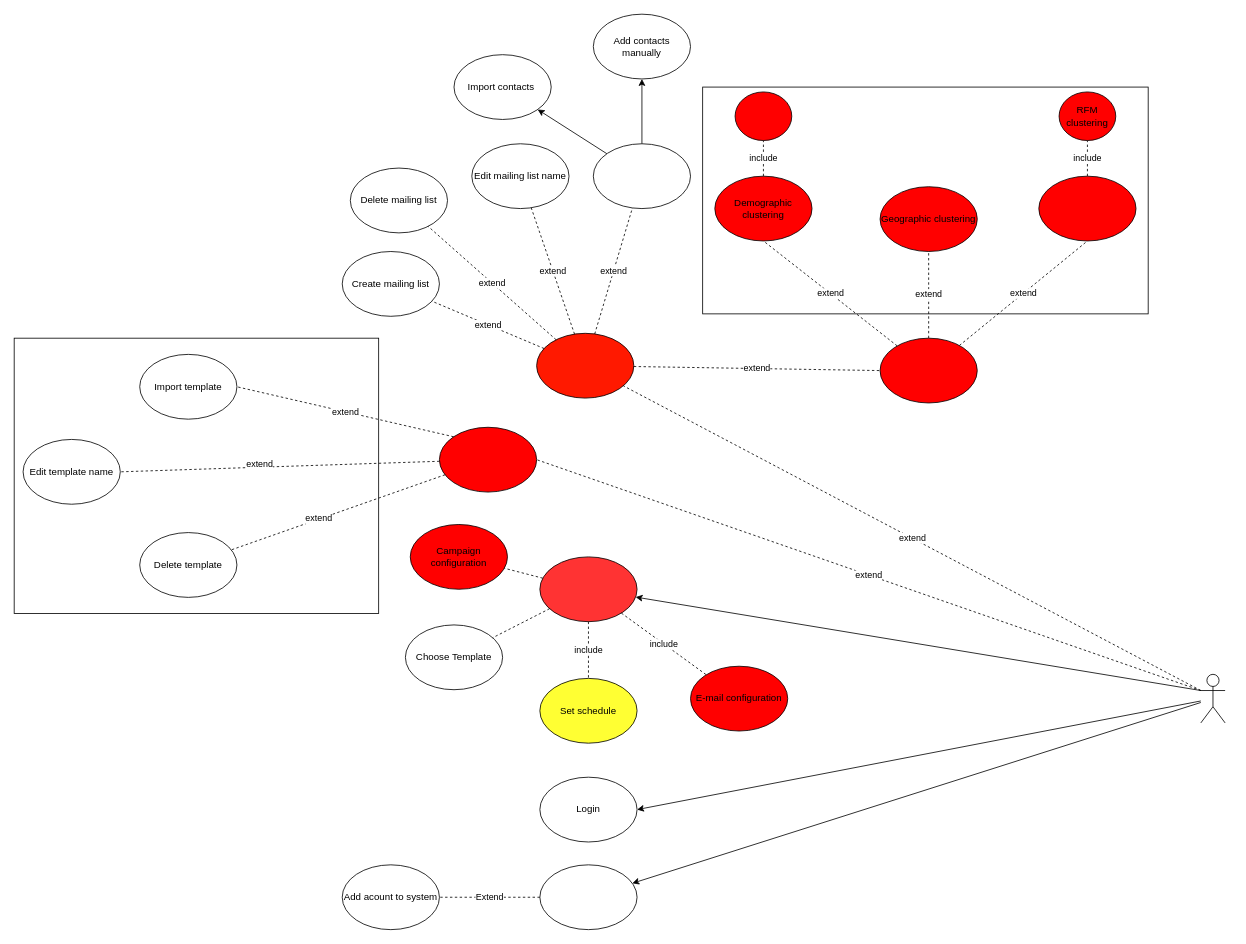
Image size: 1246x944. Some labels were removed from this diagram. Here are the shapes that lost their labels. From the top down, the centre of each, then its label:
At [763,116]: "Income-Spending".
At [642,176]: "Add contacts".
At [1087,208]: "Behavioral segmentation".
At [585,365]: "Manipulate mailing lists".
At [928,370]: "Segment subscribers".
At [488,459]: "Template manipulation".
At [588,589]: "Create campaign".
At [1212,698]: "Marketer".
At [588,897]: "Sign up".
